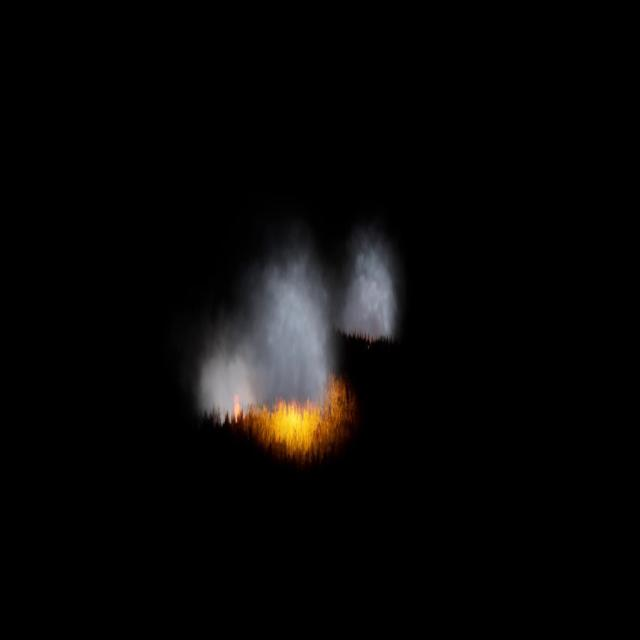fire: (231, 372, 351, 456)
smoke: (194, 212, 401, 430)
